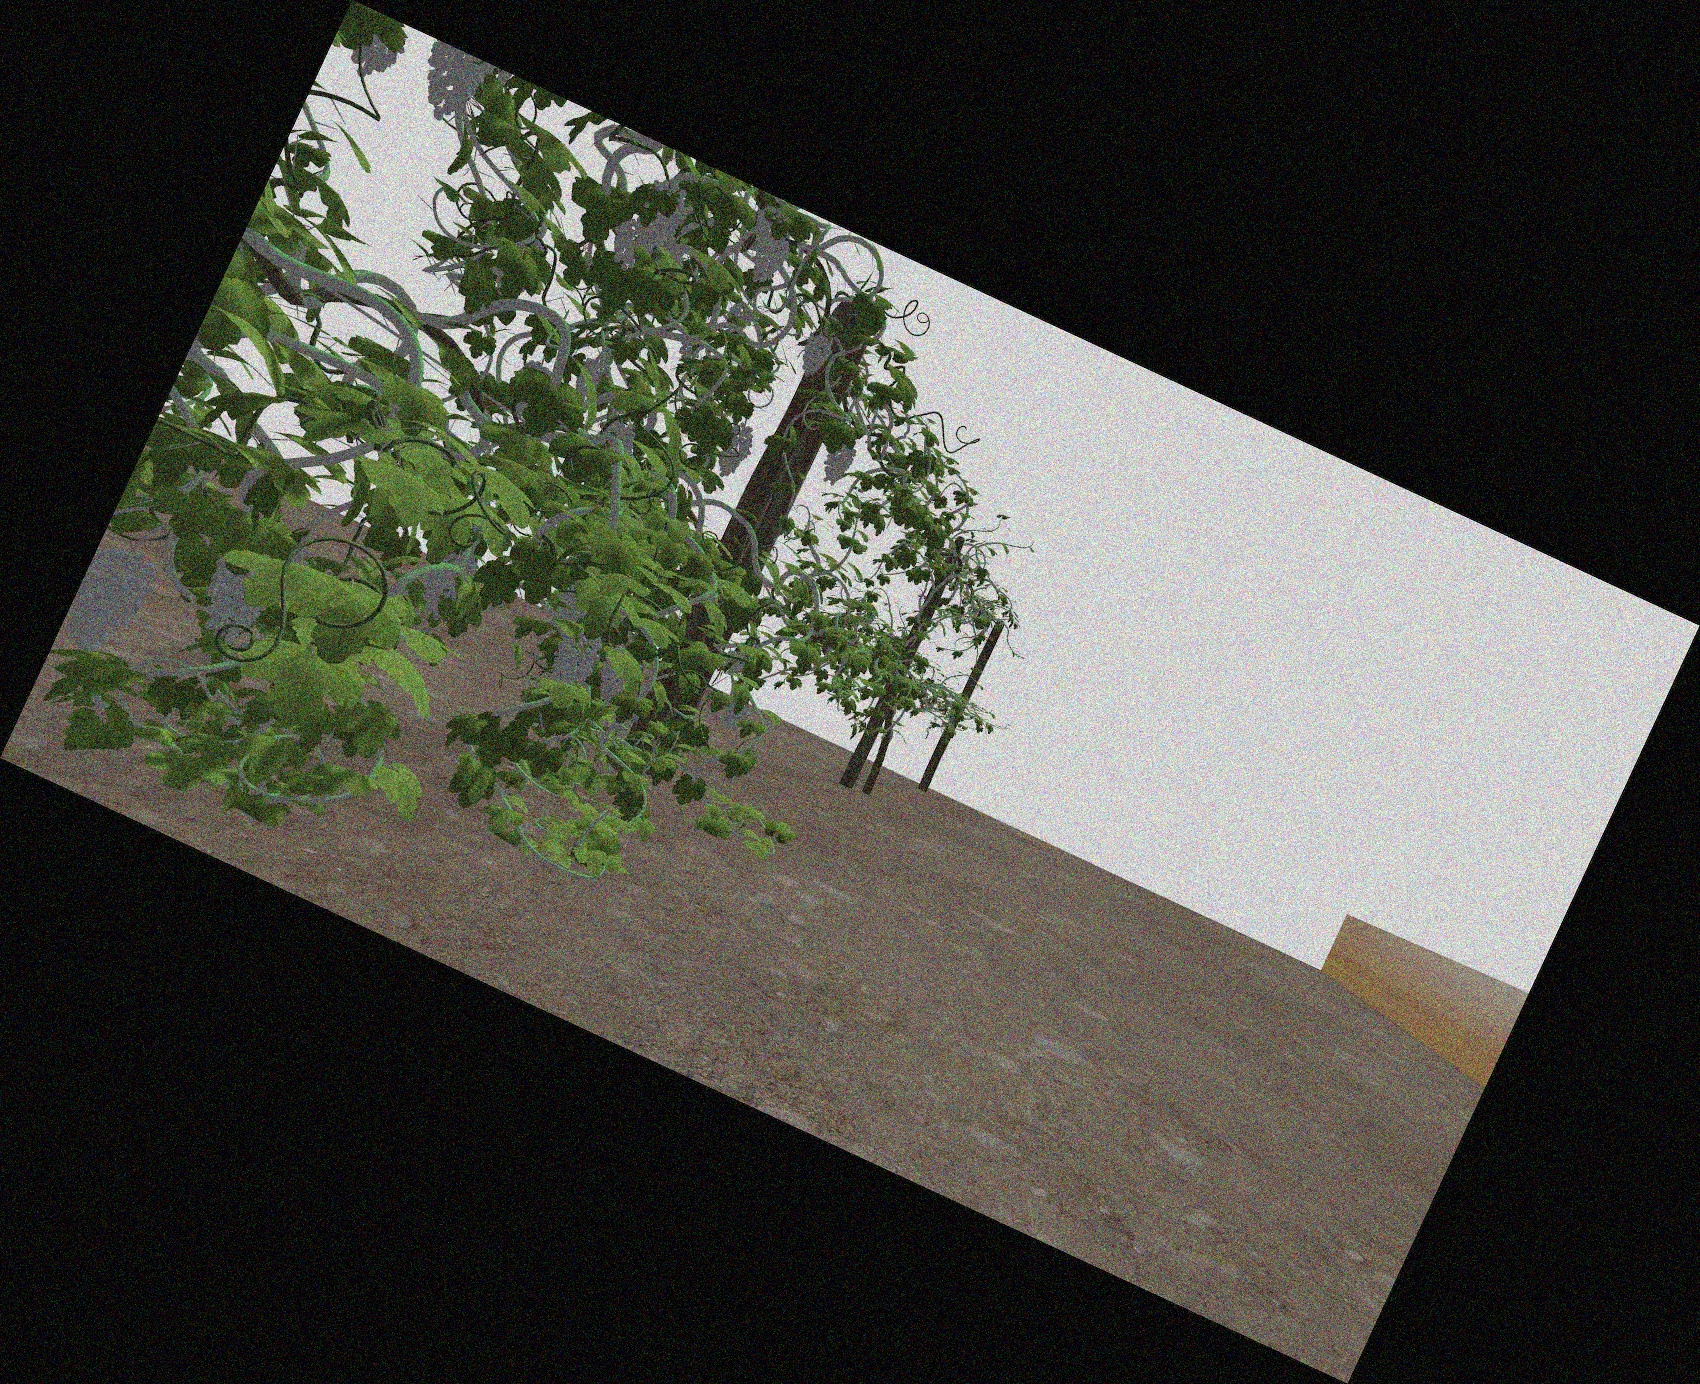grape: (85, 551, 144, 655), (202, 566, 264, 638), (417, 55, 480, 119), (640, 185, 683, 249), (555, 636, 594, 685), (753, 230, 785, 285), (424, 568, 455, 619), (722, 425, 750, 479), (826, 439, 853, 484), (802, 333, 829, 377), (597, 661, 625, 700), (726, 700, 747, 732)
